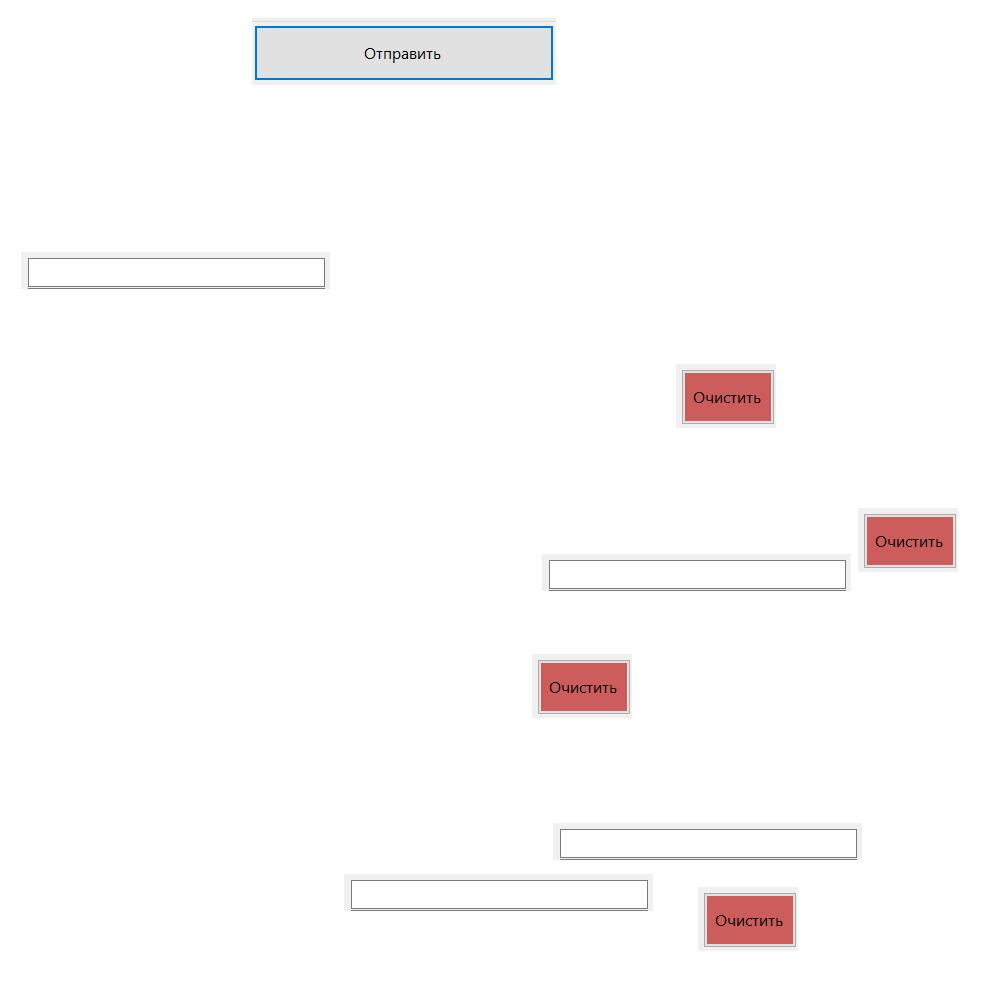Button: (252, 18, 556, 85), (532, 654, 632, 718), (676, 364, 776, 428), (698, 887, 798, 951), (858, 508, 958, 572)
EditText-: (553, 823, 862, 860), (542, 554, 851, 591), (344, 874, 653, 911), (21, 252, 330, 289)
